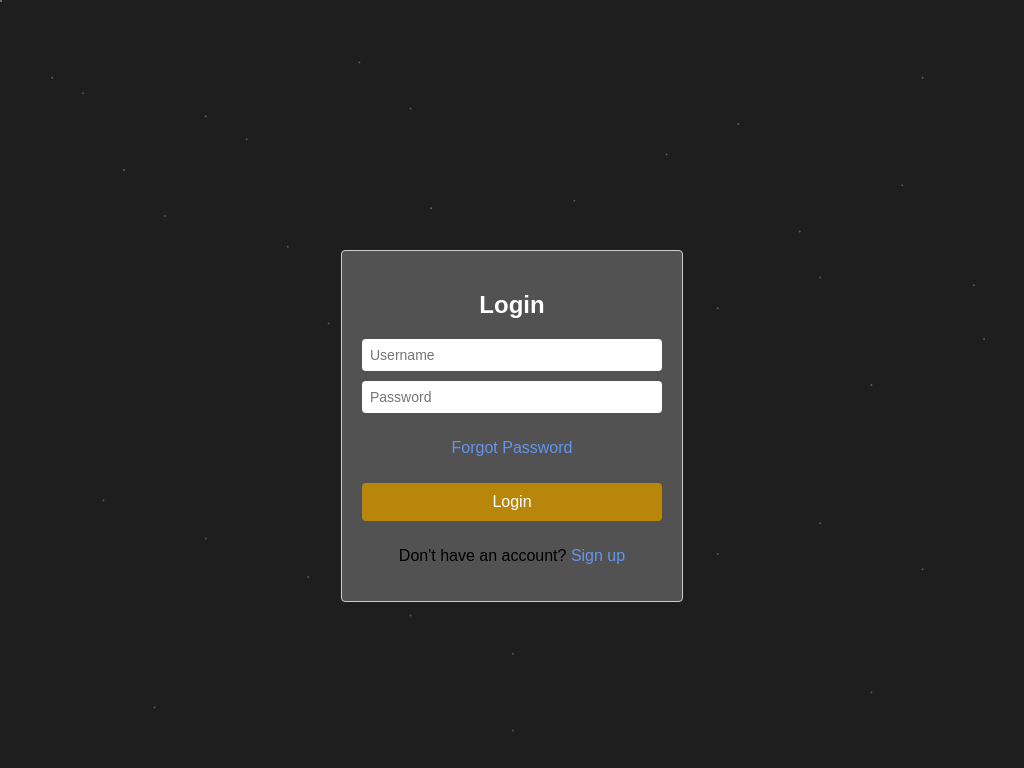
Test: Login Failure Handling › shows the fallback “Login failed” message and stays on /login
Type "wronguser" into the field with placeholder "Username" at point(512, 355), box [362,339,662,371]
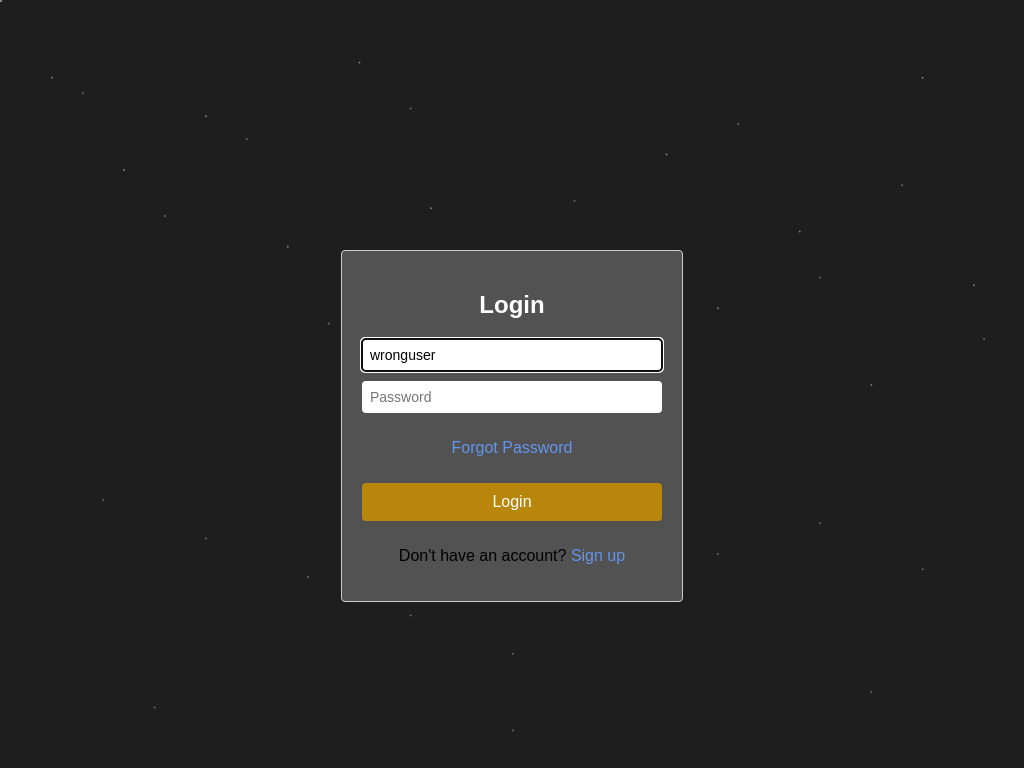
Type "wrongpass" into the password field with placeholder "Password" at point(512, 397), box [362,381,662,413]
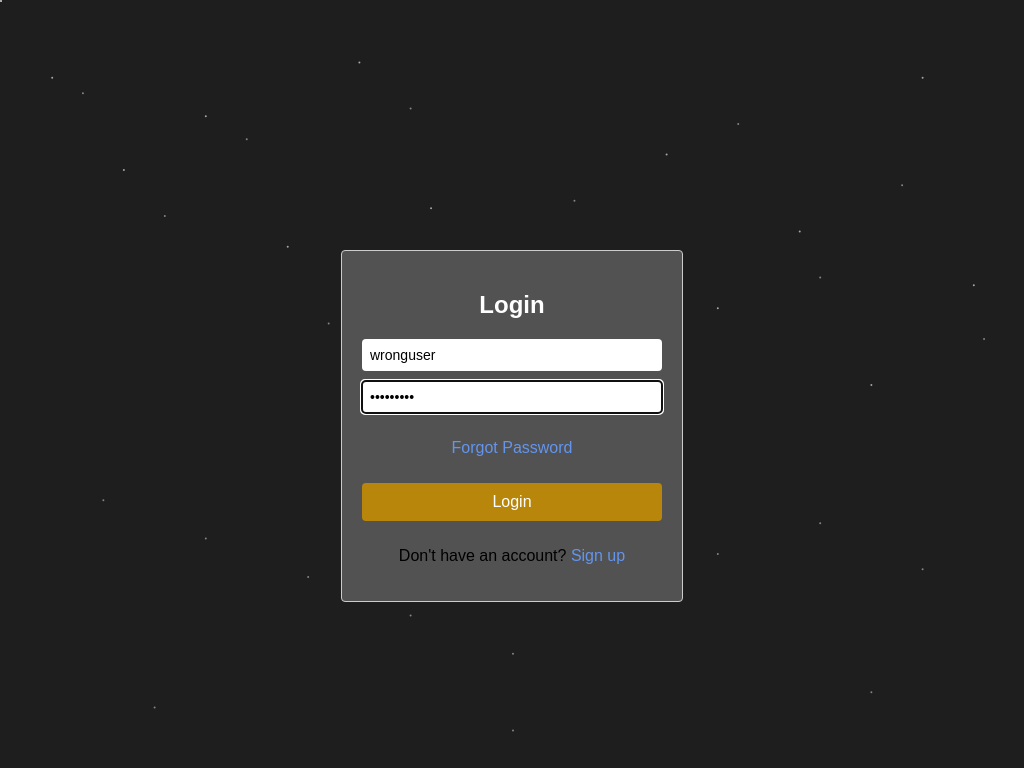
Click the button "Login" at point(512, 502), box [362,483,662,521]
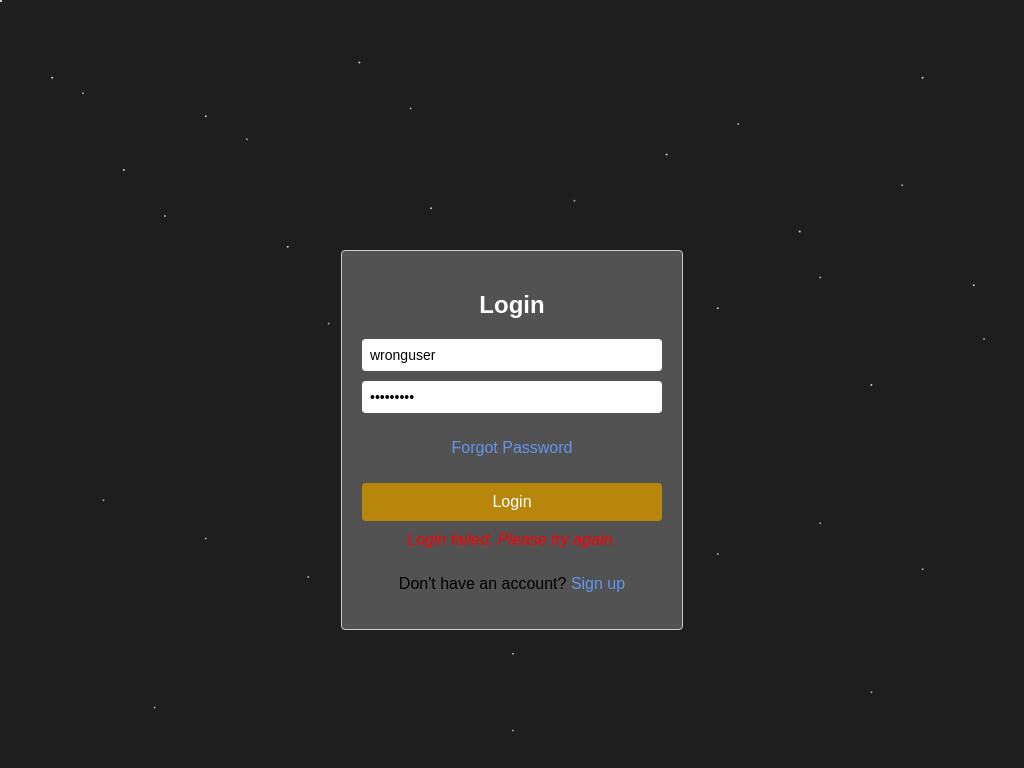
Check: the text "Login failed" is shown, box [341,250,683,630]
